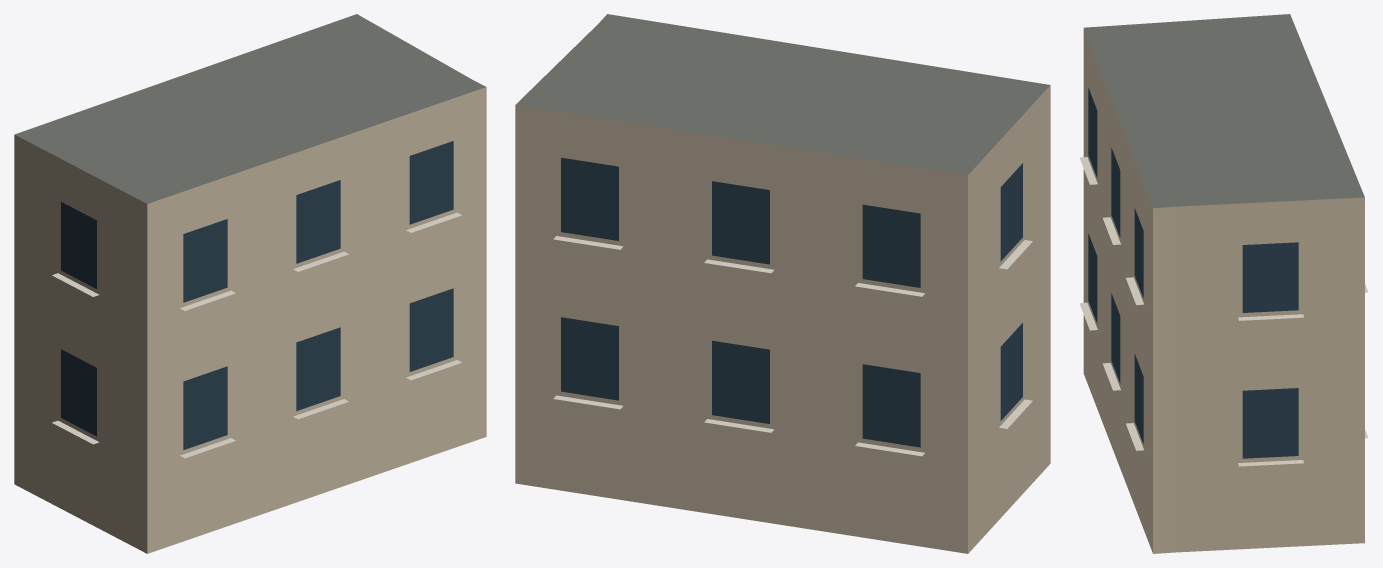
3 renders of one model, left to right at view 1: azimuth 30°, elevation 25°; view 2: azimuth 150°, elevation 25°; view 3: azimuth 270°, elevation 25°, orthographic. The views are drawn at different scales.
Parts seen in each view (by area): view 1: Footprint 0, Inferred window bays, Window sills; view 2: Footprint 0, Inferred window bays, Window sills; view 3: Footprint 0, Inferred window bays, Window sills.
Boxes of the visible parts, x1,y1,x2,y2 form: Footprint 0: [14, 14, 486, 553]; Inferred window bays: [61, 141, 453, 450]; Window sills: [52, 212, 461, 458]; Footprint 0: [515, 14, 1050, 553]; Inferred window bays: [561, 157, 1022, 447]; Window sills: [553, 236, 1032, 456]; Footprint 0: [1083, 14, 1364, 553]; Inferred window bays: [1088, 88, 1298, 458]; Window sills: [1079, 157, 1368, 466].
Size of the model in its own units: 10.11 by 8.39 by 6.36.
